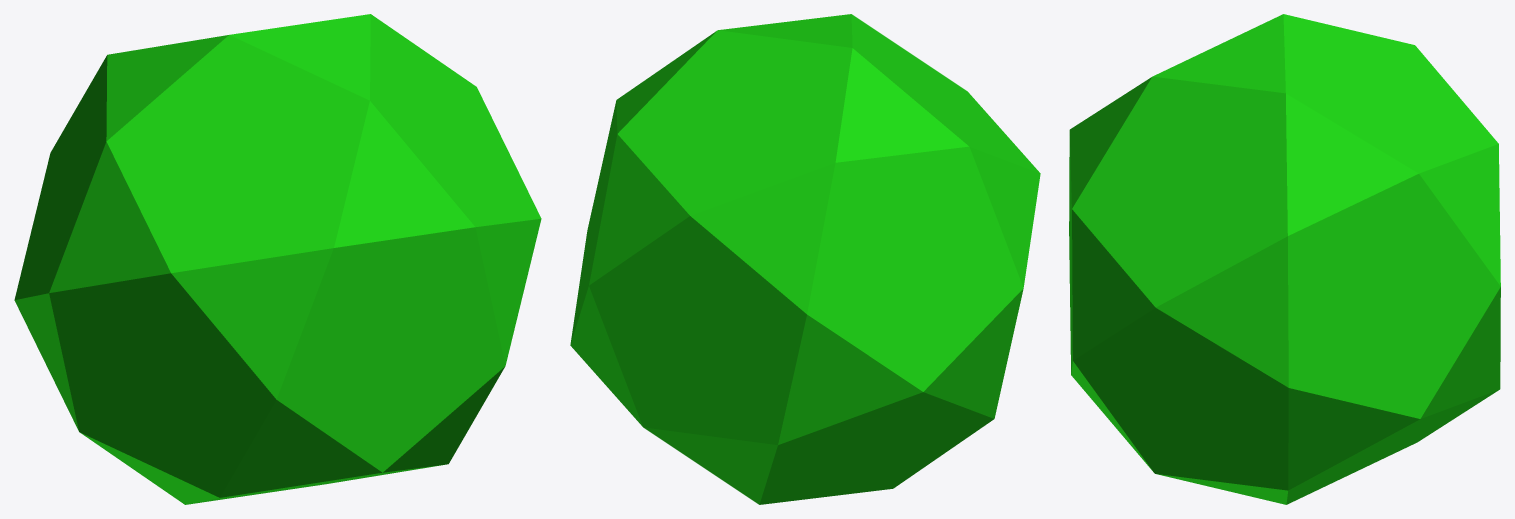
File: Leaves_One.fbx
3 renders of one model, left to right at view 1: azimuth 30°, elevation 25°; view 2: azimuth 150°, elevation 25°; view 3: azimuth 270°, elevation 25°, orthographic. The views are drawn at different scales.
Parts seen in each view (by area): view 1: Hedra002; view 2: Hedra002; view 3: Hedra002.
Part boxes in pixels (<box>): Hedra002: <box>14,14,541,504</box>; Hedra002: <box>570,14,1040,504</box>; Hedra002: <box>1069,14,1500,504</box>.
Size of the model in its own units: 97.87 by 84.38 by 96.11.
